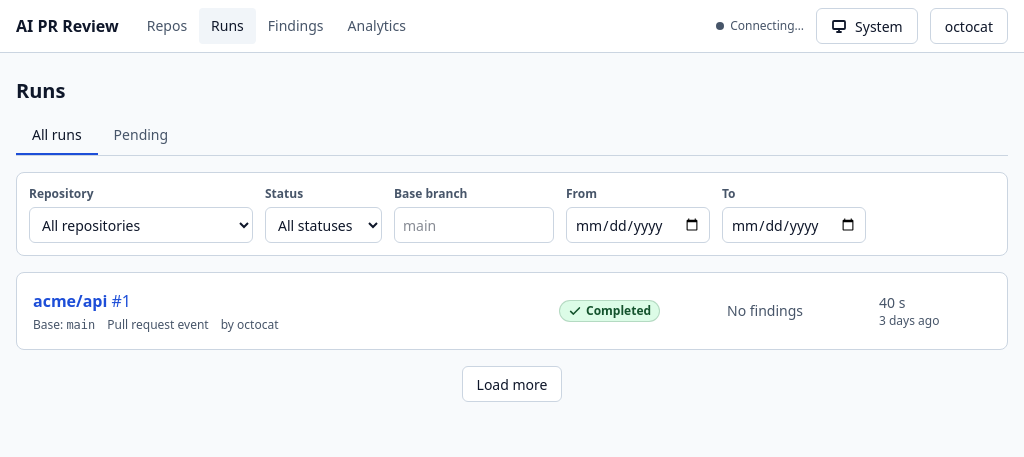
Runs page › follows the cursor for more runs
Check: the link "acme/api #1" is shown, box [33, 290, 131, 312]
Check: the link "#2" is not shown
Click the button "Load more" at (512, 384), box [462, 366, 562, 402]
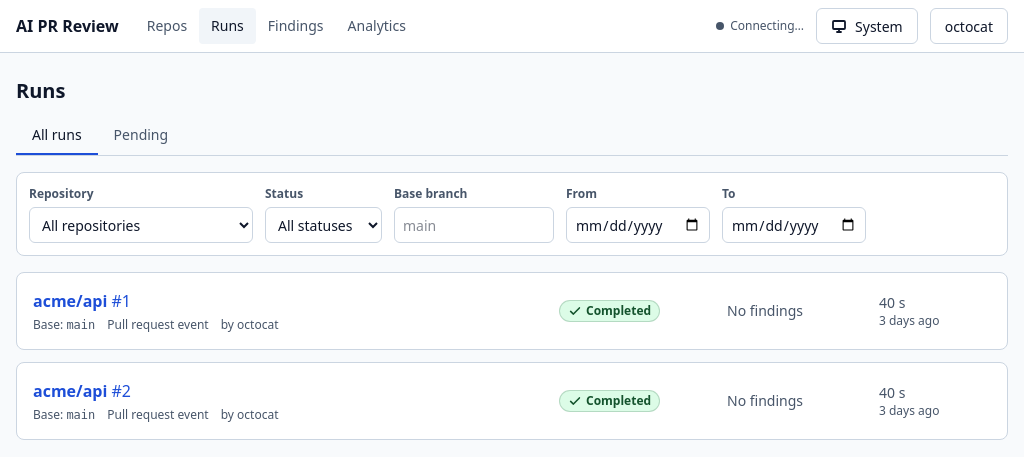
Check: the link "acme/api #1" is shown, box [33, 290, 131, 312]
Check: the link "acme/api #2" is shown, box [33, 380, 131, 402]
Check: the button "Load more" is gone
